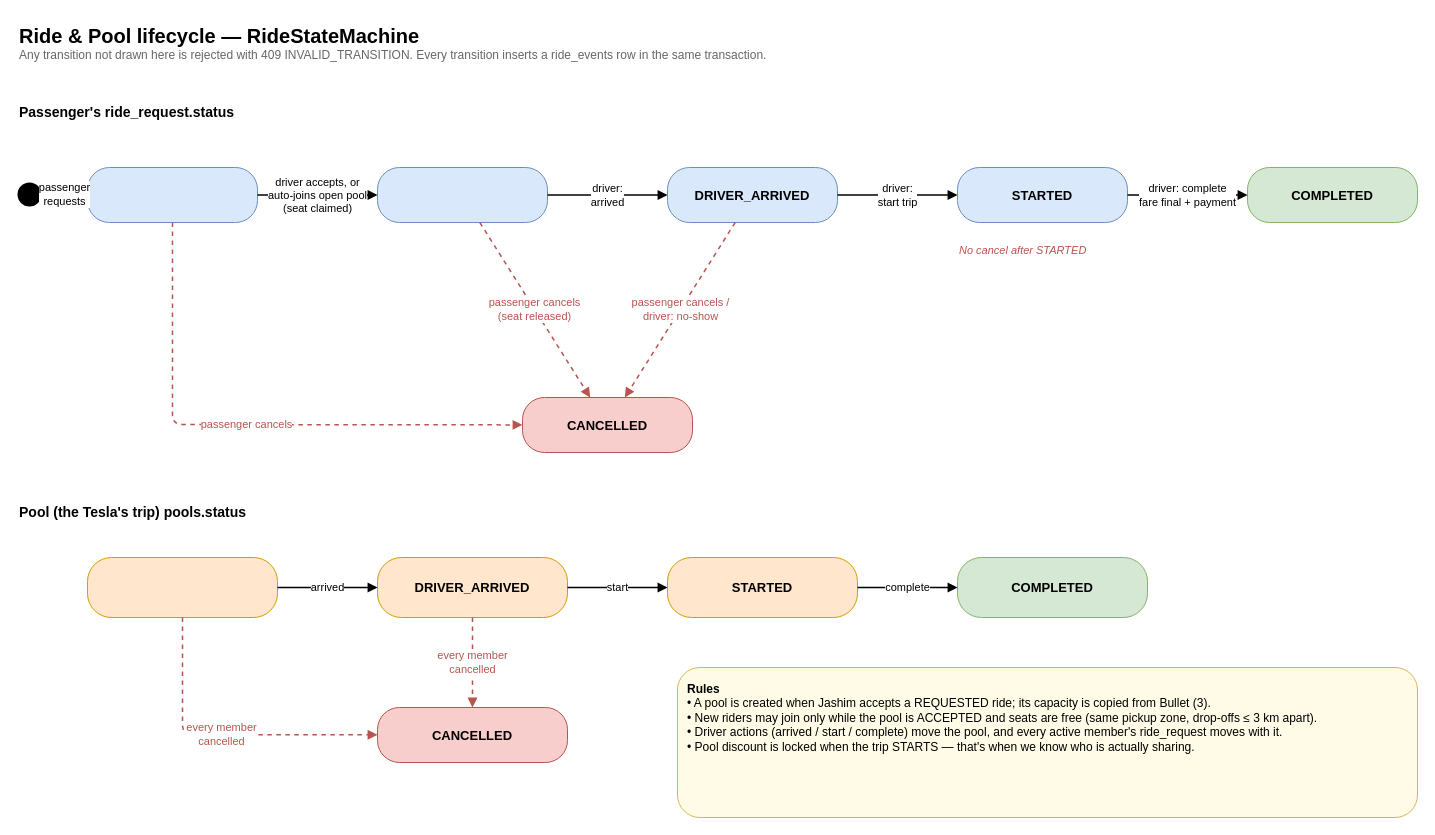
This 1435x835 diagram has some shape labels left out. Each missing label, with the centre of its shape:
"ACCEPTED open: others may join" belongs at pixel 182 587.
"MATCHED" belongs at pixel 462 194.
"REQUESTED" belongs at pixel 172 194.
